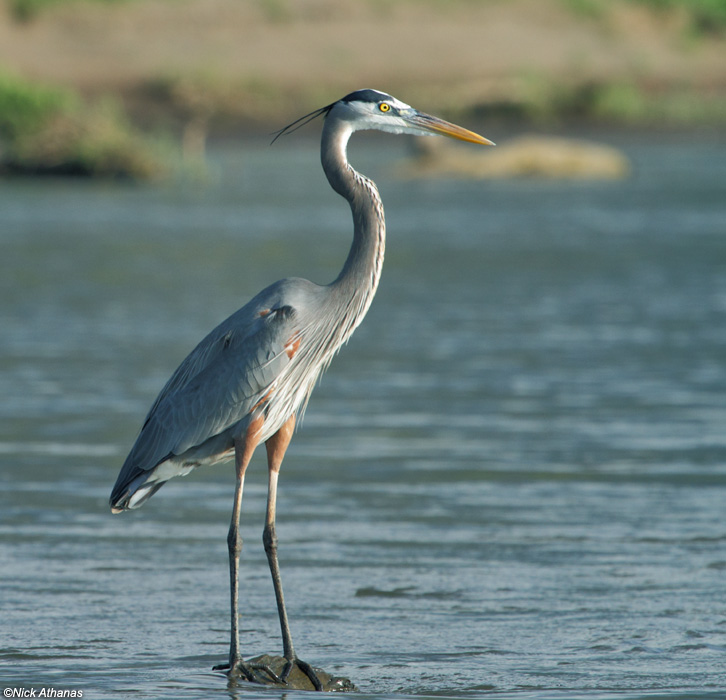heron: (104, 77, 504, 699)
